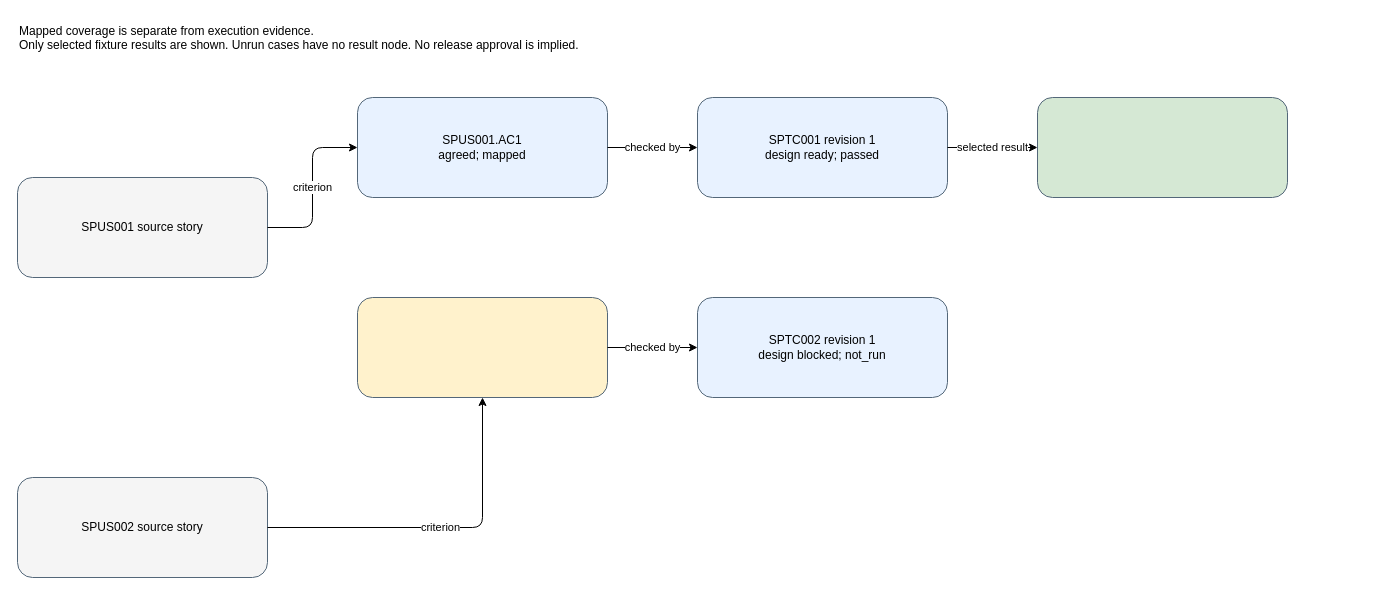
This 1385x595 diagram has some shape labels left out. The shapes that lost their labels are listed below. From the top down, each one's centre as x and y in pixels, then its label:
(1162,147): SPRS001 passed; fixture scope only
(482,347): SPUS002.AC1 conflicting; mapped
